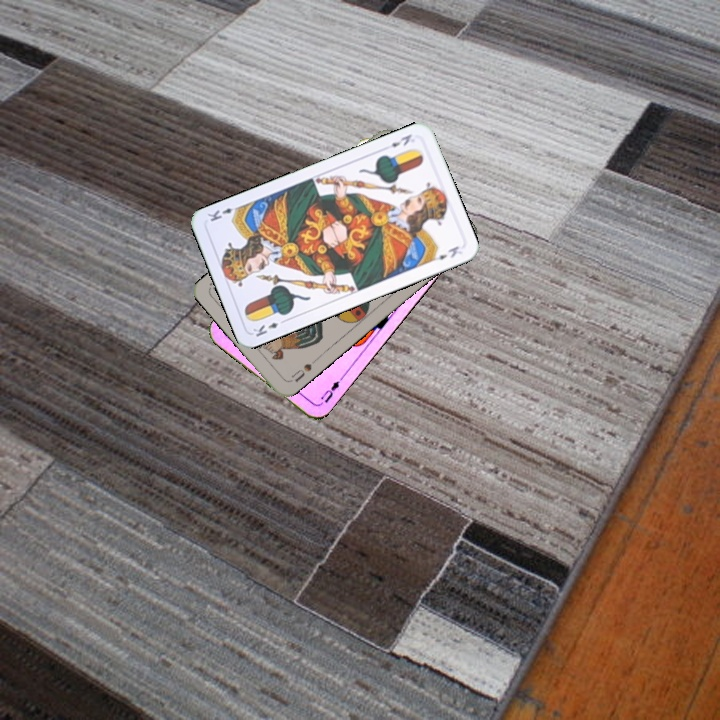EK: (249, 315, 289, 339), (387, 130, 414, 150)
EU: (315, 377, 342, 408)
SU: (285, 355, 320, 385)
